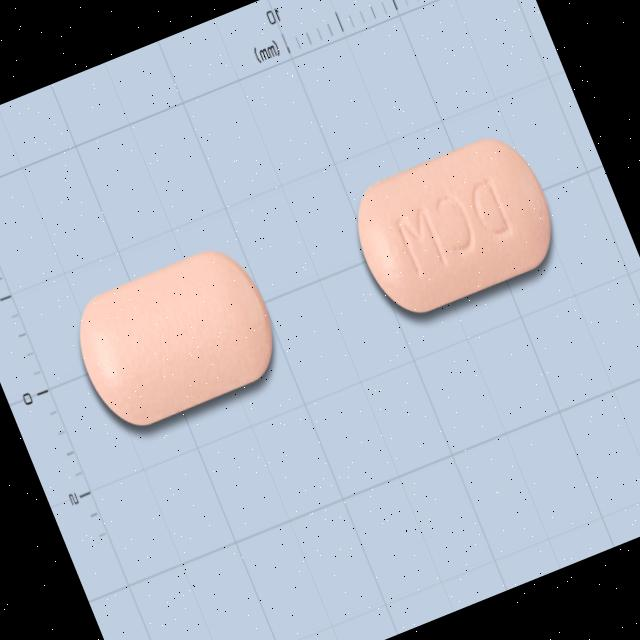Dongkoo Levofloxacin Hydrate Tab-500mg: (61, 234, 291, 438), (338, 123, 568, 326)
